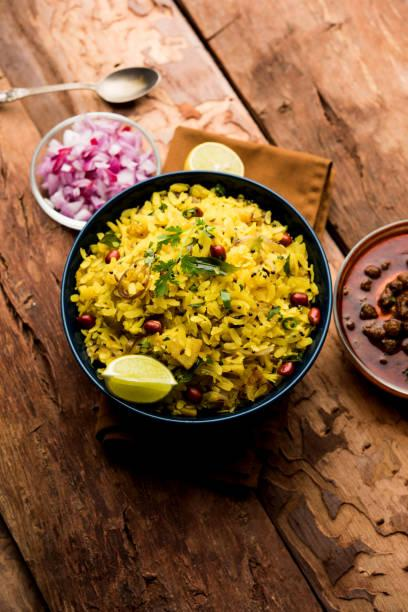poha: (90, 201, 325, 424)
salad: (34, 126, 145, 216)
